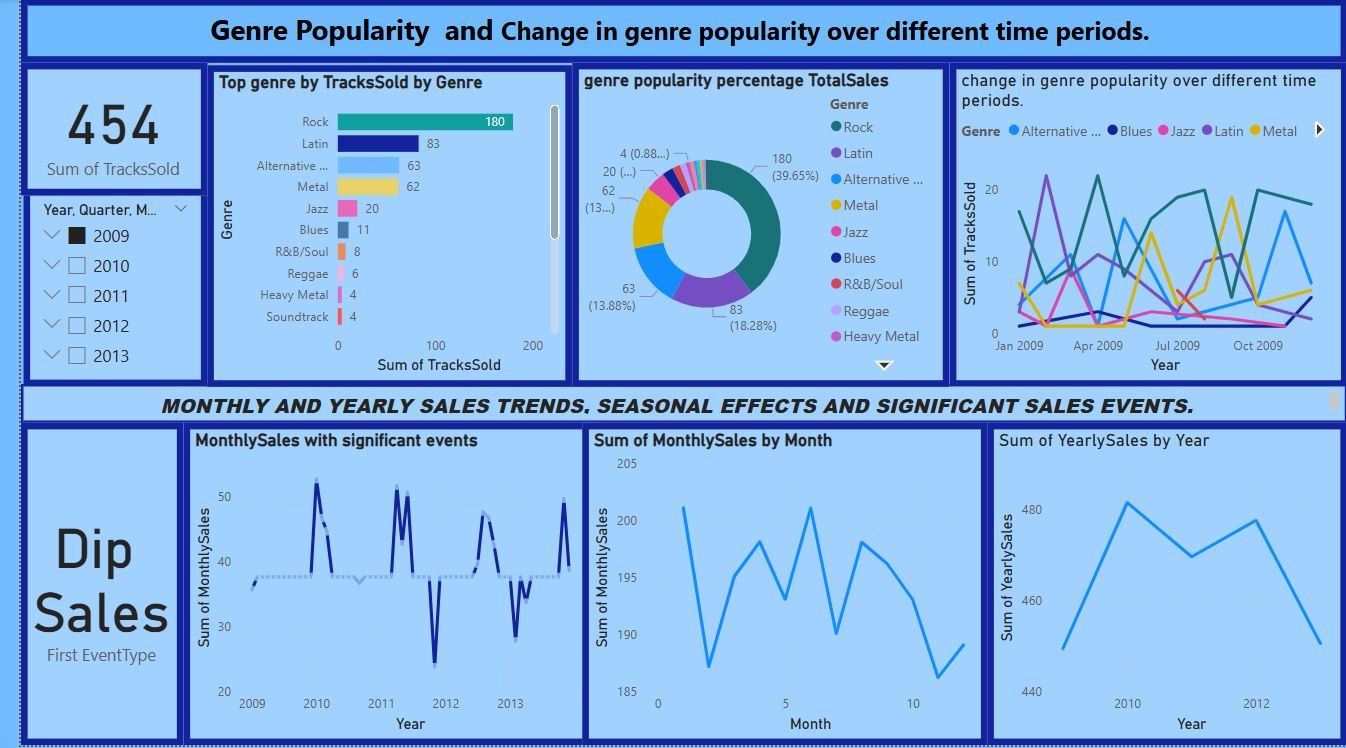

What the dashboard file says about the page in this screenshot:
{"tool":"powerbi","page":{"name":"Page 3","canvas":[1280,720],"ordinal":2},"visuals":[{"type":"textbox","box":[384.9,0,353.5,41],"z":0},{"type":"clusteredBarChart","title":"Genre Popularity by Sum of TrackSold ","fields":{"Category":["genres_popularity1.Genre"],"Y":["Sum(genres_popularity1.TrackSold)"]},"box":[305.2,60.3,282.3,300.4],"z":1000},{"type":"clusteredBarChart","title":"Genre popularity by  Total Sales ","fields":{"Y":["Sum(genres_popularity1.TotalSales)"],"Category":["genres_popularity1.Genre"]},"box":[12.3,59,279.9,300.5],"z":2000},{"type":"lineChart","title":"change in genre  popularity over different time periods. ","fields":{"Series":["genre_trendss.Genre"],"Category":["genre_trendss.YearMonth.Variation.Date Hierarchy.Year","genre_trendss.YearMonth.Variation.Date Hierarchy.Quarter","genre_trendss.YearMonth.Variation.Date Hierarchy.Month","genre_trendss.YearMonth.Variation.Date Hierarchy.Day"],"Y":["Sum(genre_trendss.TracksSold)"]},"box":[304.6,419.9,455.6,300.5],"z":3000},{"type":"card","fields":{"Values":["Sum(genres_popularity1.TotalSales)"]},"box":[769.7,61.5,206.3,299.2],"z":4000},{"type":"advancedSlicerVisual","fields":{"Values":["genre_trendss.YearMonth"]},"box":[769.8,419.9,463.8,300.5],"z":5000},{"type":"advancedSlicerVisual","fields":{"Values":["genre_trendss.Genre"]},"box":[24.7,419.9,267.6,300.5],"z":6000},{"type":"card","fields":{"Values":["genres_popularity1.% of Total Sales"]},"box":[597.2,60.3,162.9,300.4],"z":7000},{"type":"card","fields":{"Values":["Sum(genres_popularity1.TrackSold)"]},"box":[991.7,61.5,241.3,299.2],"z":8000},{"type":"textbox","box":[330.7,371.9,734.1,37],"z":9000}]}

Visuals, with their boxes in screenshot pixels (x1, y1, x2, y2), scaled from the page's 1280x720 canvas onto the 1346x748 screenshot:
textbox: [405,0,776,43]
"Genre Popularity by Sum of TrackSold " clusteredBarChart: [321,63,618,375]
"Genre popularity by  Total Sales " clusteredBarChart: [13,61,307,373]
"change in genre  popularity over different time periods. " lineChart: [320,436,799,747]
card - Sum(genres_popularity1.TotalSales): [809,64,1026,375]
advancedSlicerVisual - genre_trendss.YearMonth: [809,436,1297,747]
advancedSlicerVisual - genre_trendss.Genre: [26,436,307,747]
card - genres_popularity1.% of Total Sales: [628,63,799,375]
card - Sum(genres_popularity1.TrackSold): [1043,64,1297,375]
textbox: [348,386,1120,425]
